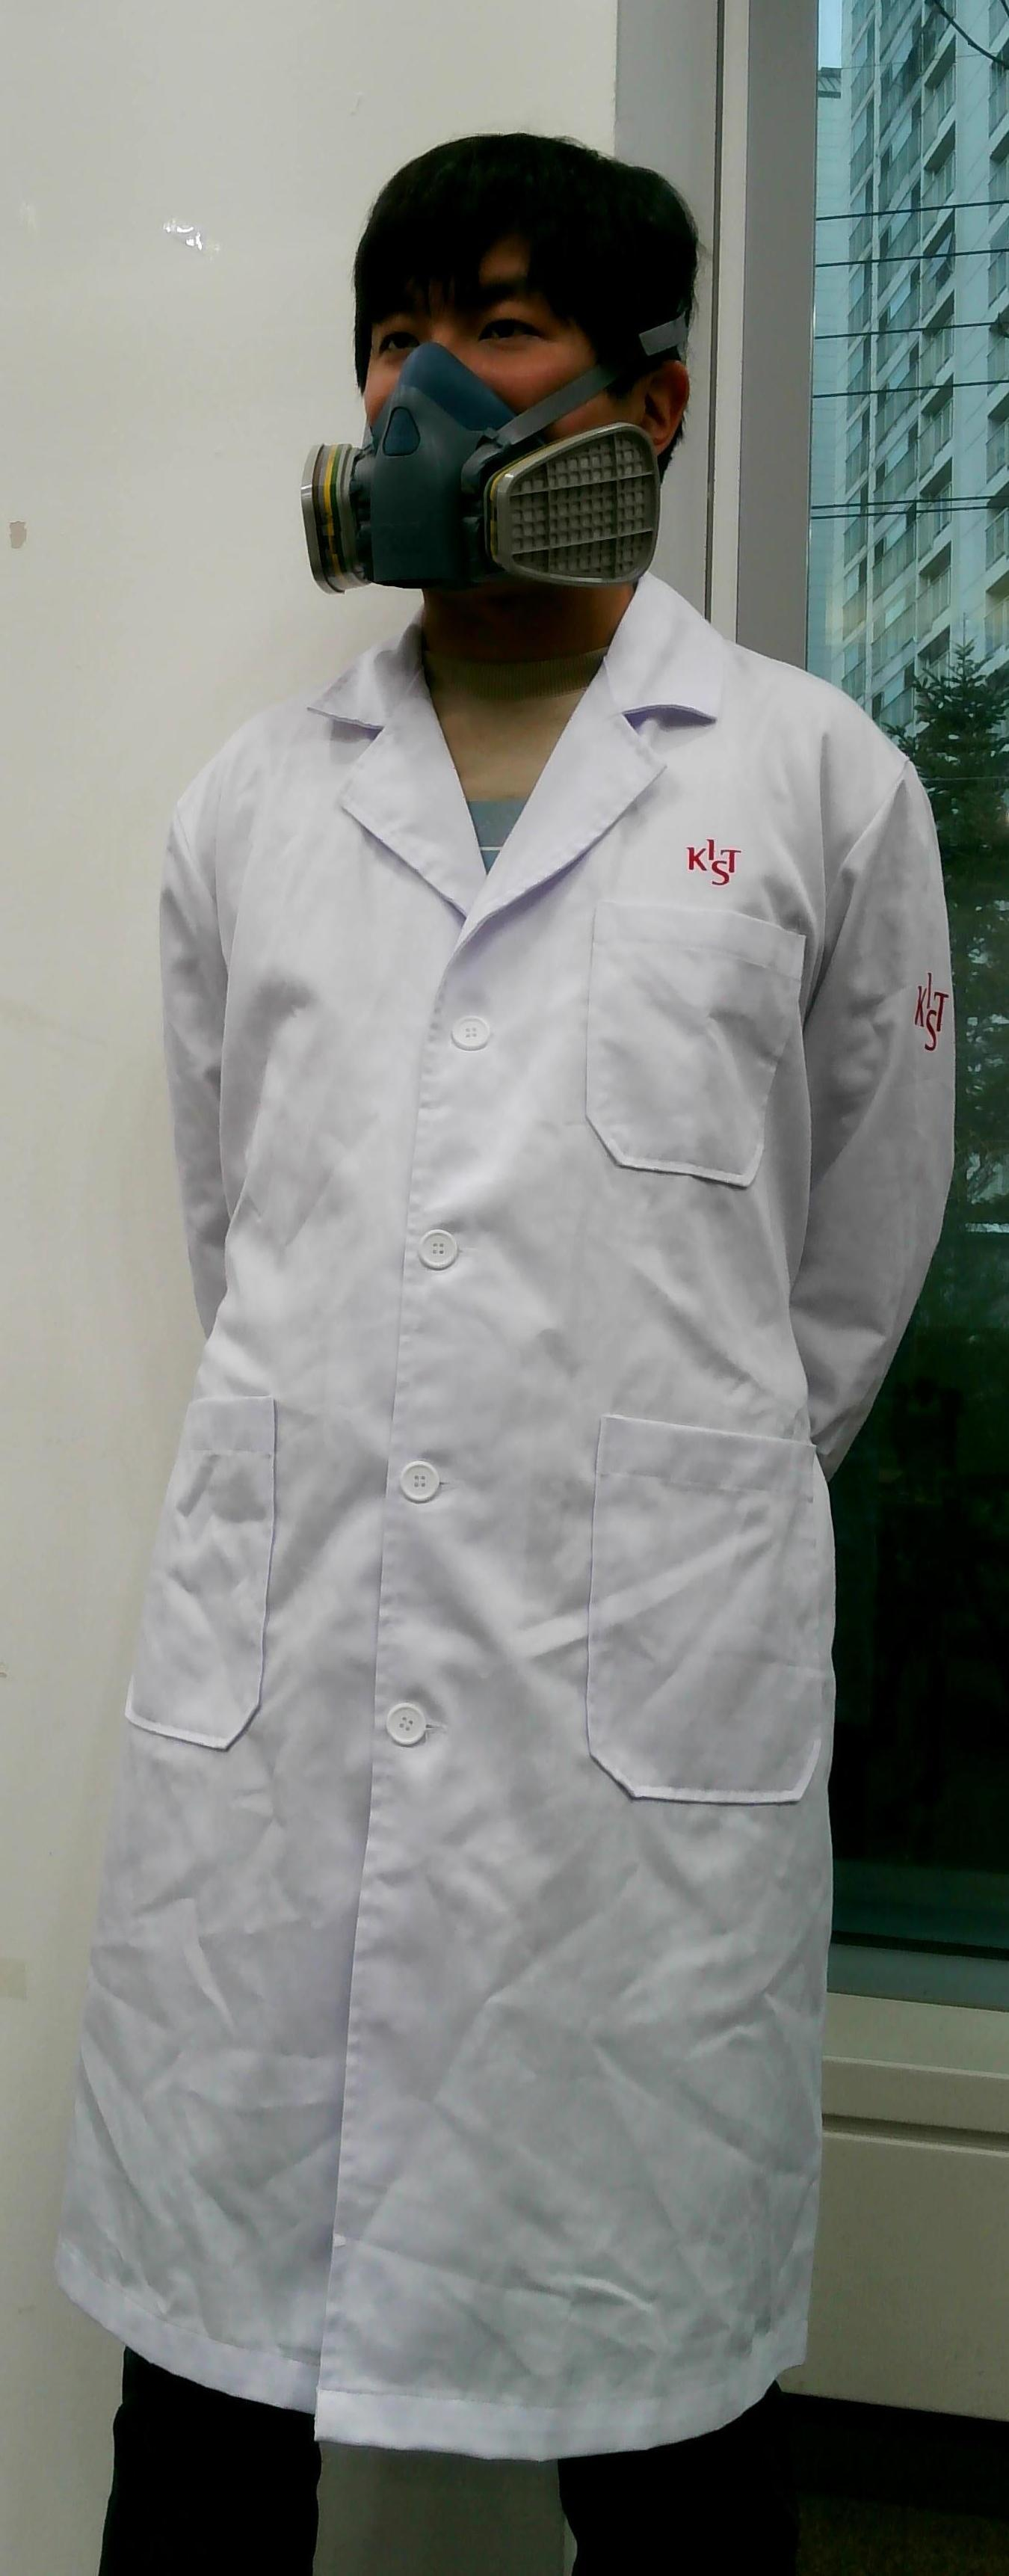lab_coat: (31, 659, 960, 2448)
